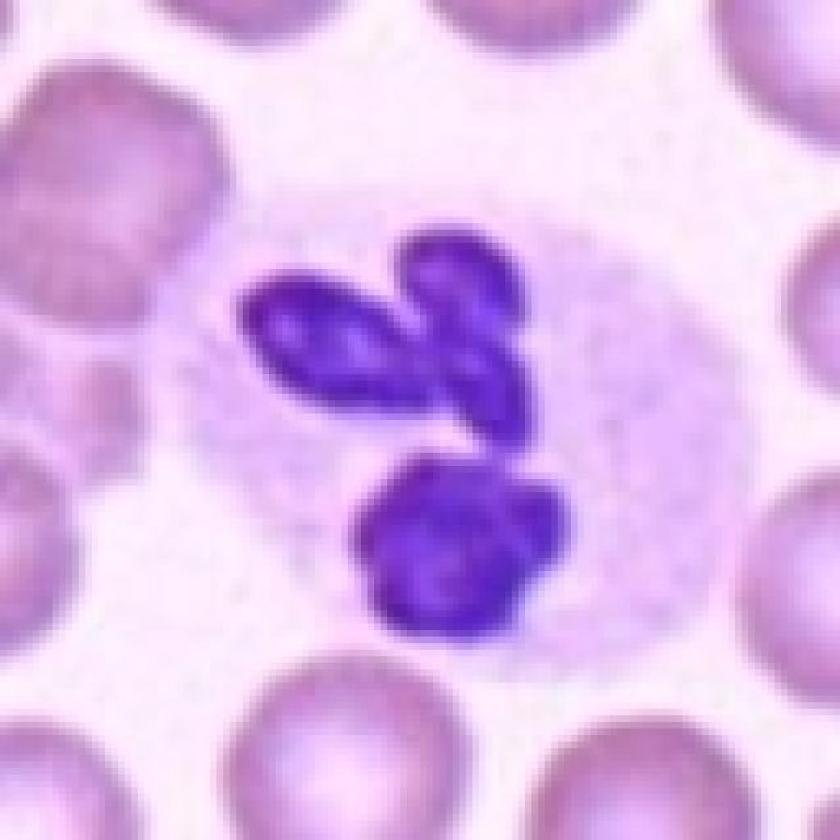neutrophil: (138, 288, 692, 840)
